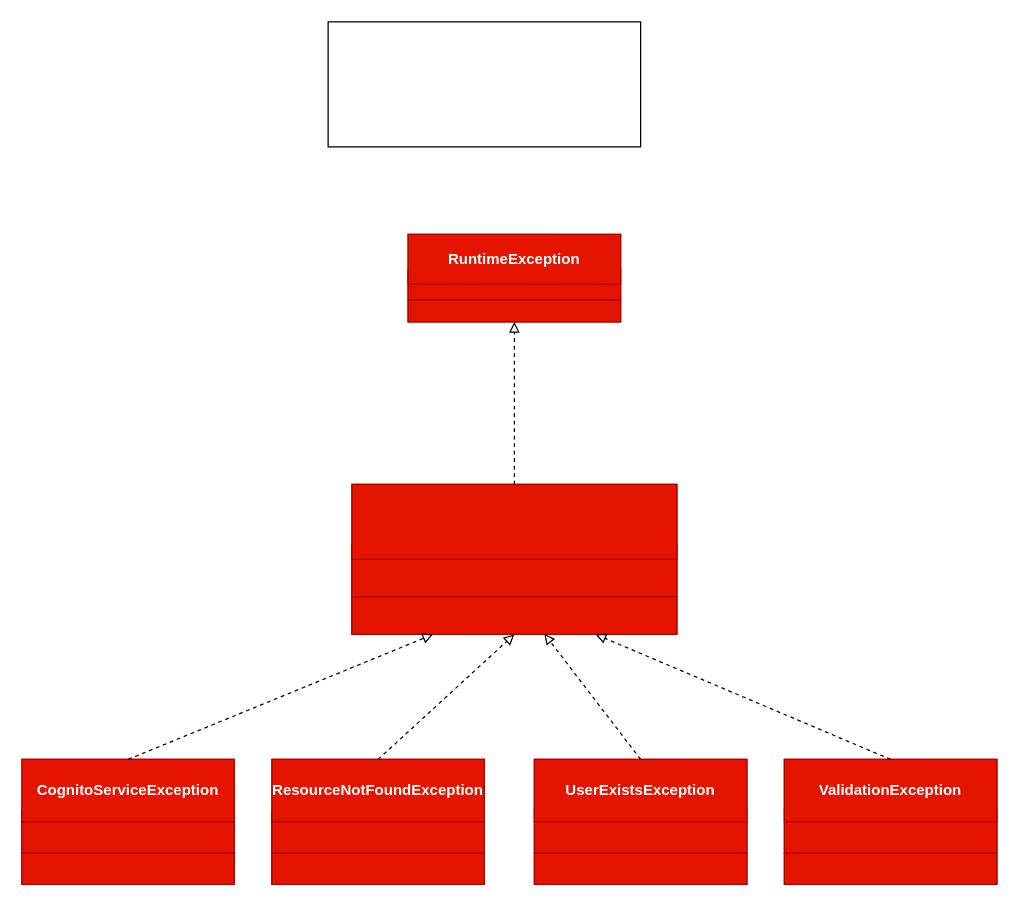
The diagram is 1019 pixels wide and 906 high, and some of its shapes have lost their labels. The box of each missing label's shape, as (x1, y1, x2, y2) in pixels:
BugboardException: (351, 483, 677, 559)
Gerarchia eccezioni custom: (327, 21, 641, 147)
